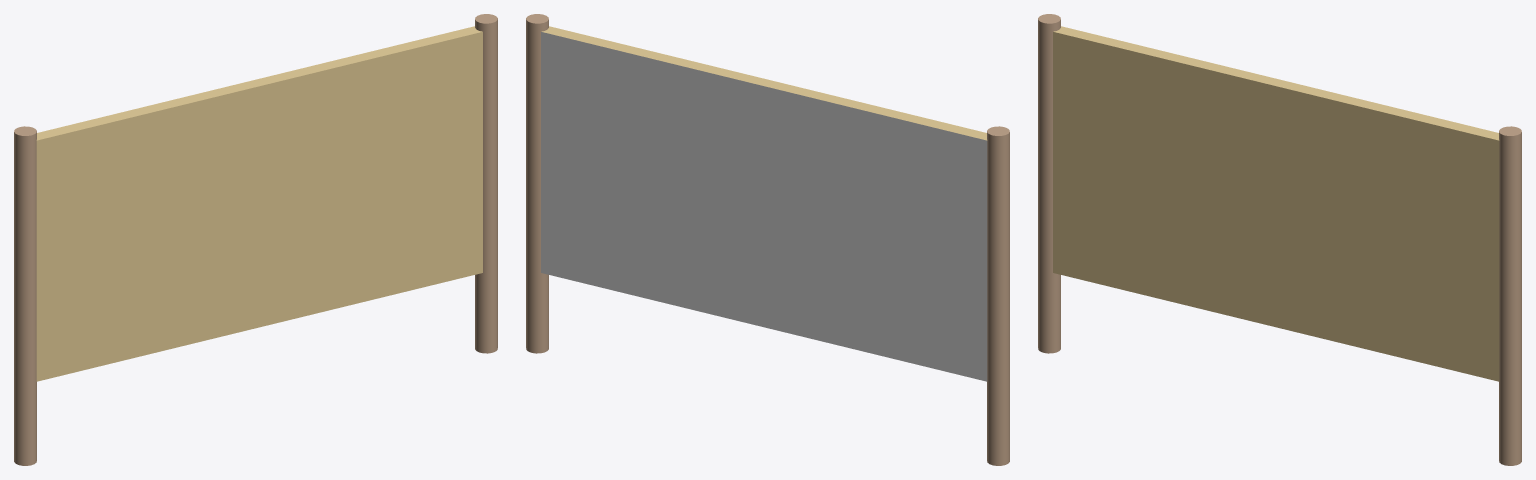
Rendered from TutorialSign.fbx.
3 renders of one model, left to right at view 1: azimuth 30°, elevation 25°; view 2: azimuth 150°, elevation 25°; view 3: azimuth 330°, elevation 25°, orthographic.
Visible parts, largest first — view 1: Canvas, Poles; view 2: Canvas, Poles; view 3: Canvas, Poles.
Boxes of the visible parts, box(x1,y1,x2,y2) form: Canvas: box(36, 26, 482, 381); Poles: box(14, 14, 497, 465); Canvas: box(541, 26, 987, 381); Poles: box(526, 14, 1009, 465); Canvas: box(1053, 26, 1499, 381); Poles: box(1038, 14, 1521, 465).
Size of the model in its own units: 6.26 by 4.1 by 0.2597.
